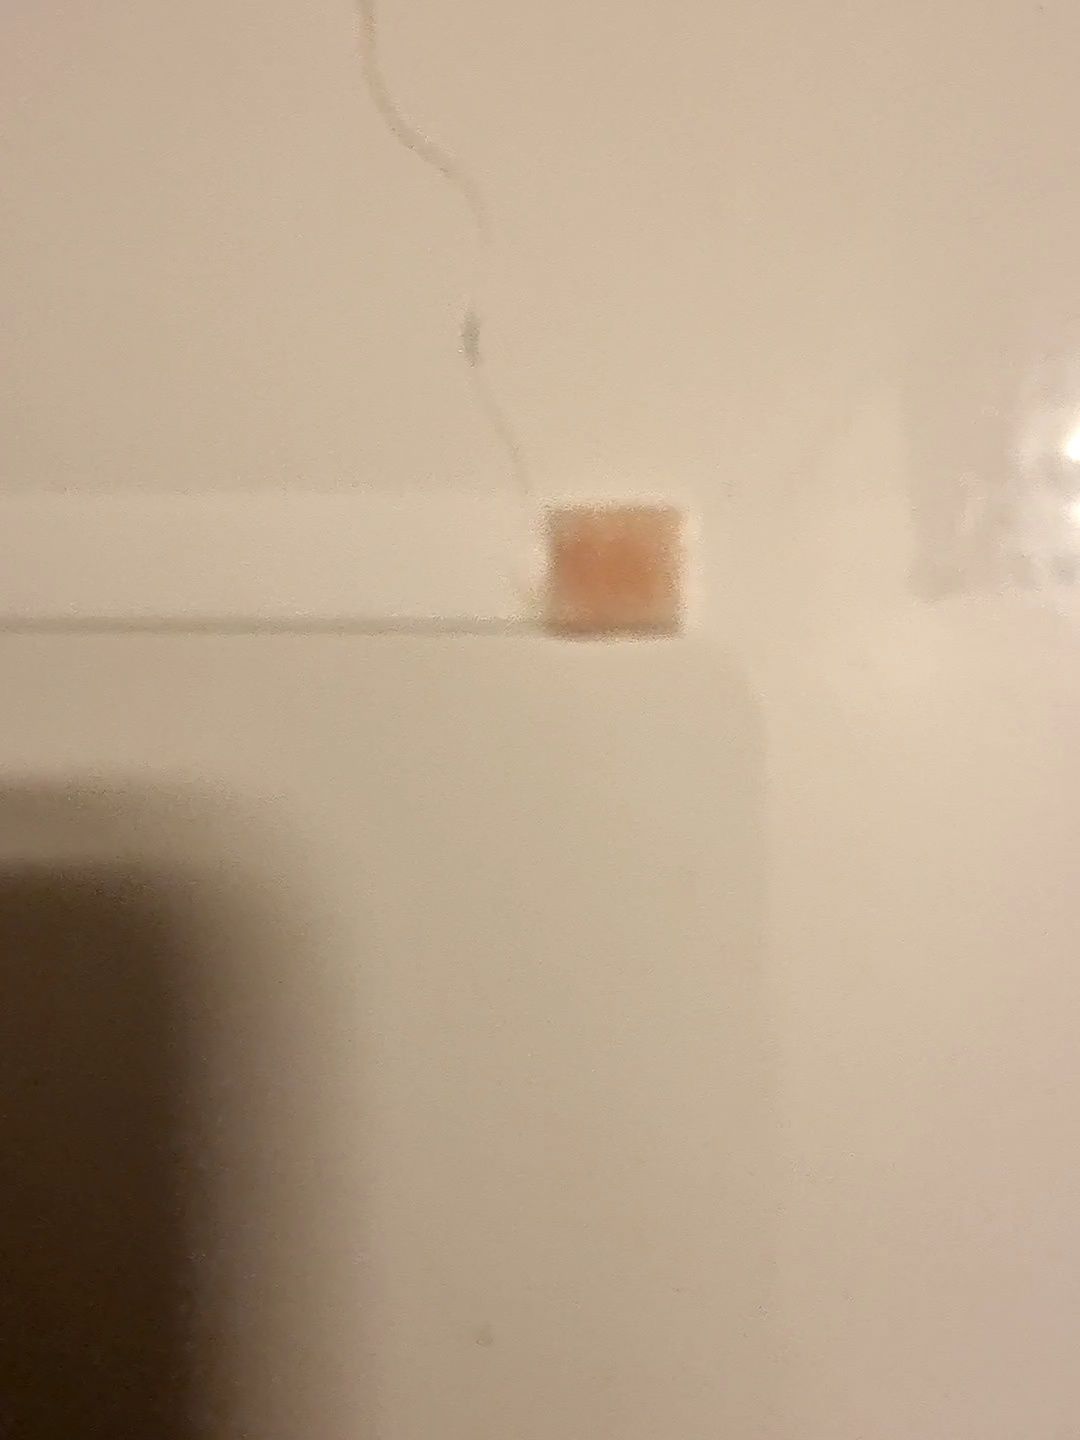keto-tip: (534, 491, 695, 650)
